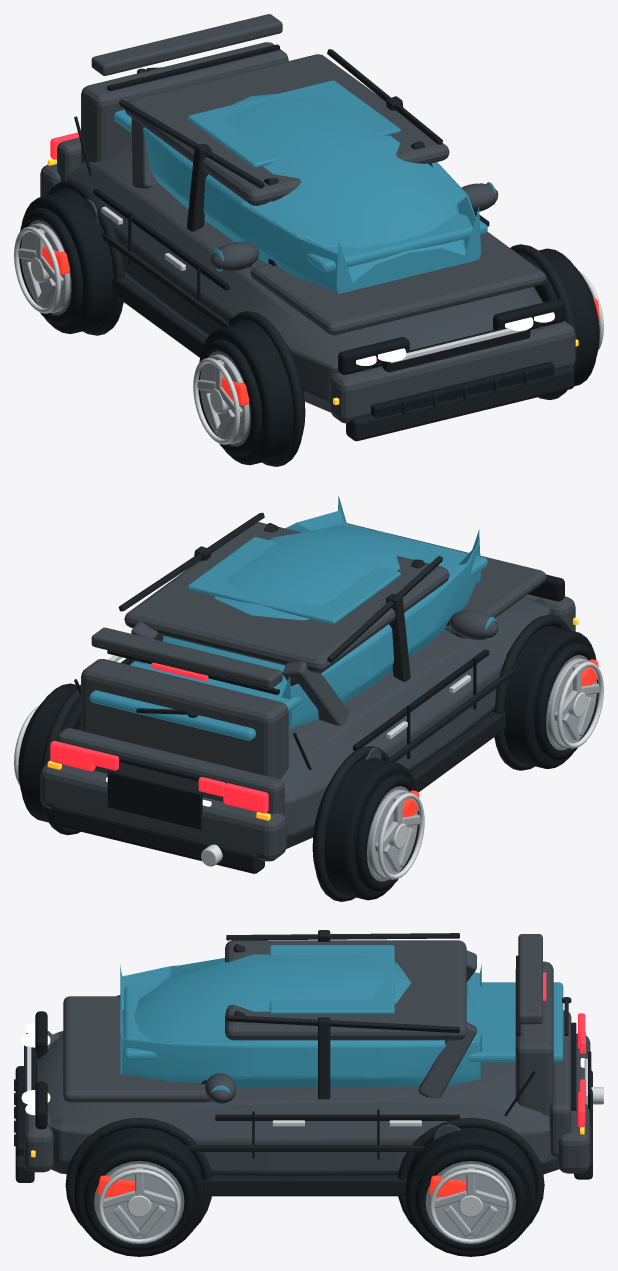
File: golf6_starter.glb
3 renders of one model, top to bottom at view 1: azimuth 30°, elevation 25°; view 2: azimuth 150°, elevation 25°; view 3: azimuth 270°, elevation 25°, orthographic. The views are drawn at different scales.
Parts seen in each view (by area): view 1: golf6 continuous dark greenhouse glass, golf6 compact rounded body shell, golf6 flat roof panel, golf6 front hood slab with softened crown, golf6 front bumper painted cover, golf6 rear hatch metal surround, left wheel tire, left wheel tire.001, golf6 black lower front valance, golf6 panoramic roof dark insert, golf6 small roof spoiler, right wheel tire (+26 smaller); view 2: golf6 continuous dark greenhouse glass, golf6 compact rounded body shell, golf6 flat roof panel, golf6 rear hatch metal surround, golf6 rear bumper painted cover, golf6 lower tailgate skin, left wheel tire.001, left wheel tire, golf6 panoramic roof dark insert, golf6 small roof spoiler, golf6 black rear lower valance, golf6 black rear plate pocket shadow (+26 smaller); view 3: golf6 continuous dark greenhouse glass, golf6 compact rounded body shell, golf6 flat roof panel, golf6 front hood slab with softened crown, right wheel tire, right wheel tire.001, right golf6 textured rocker skirt, golf6 upright rear hatch glass, golf6 panoramic roof dark insert, golf6 rear hatch metal surround, right tire sidewall bead, right tire sidewall bead.001 (+29 smaller).
Boxes of the visible parts, <box> form: golf6 continuous dark greenhouse glass: <box>143,93,480,293</box>; golf6 compact rounded body shell: <box>67,144,543,412</box>; golf6 flat roof panel: <box>124,54,449,205</box>; golf6 front hood slab with softened crown: <box>250,231,546,335</box>; golf6 front bumper painted cover: <box>330,320,575,423</box>; golf6 rear hatch metal surround: <box>81,42,288,163</box>; left wheel tire: <box>201,322,305,465</box>; left wheel tire.001: <box>21,190,123,333</box>; golf6 black lower front valance: <box>346,365,574,441</box>; golf6 panoramic roof dark insert: <box>187,80,400,167</box>; golf6 small roof spoiler: <box>91,14,282,75</box>; right wheel tire: <box>520,248,597,386</box>; golf6 continuous dark greenhouse glass: <box>136,496,480,729</box>; golf6 compact rounded body shell: <box>78,597,550,848</box>; golf6 flat roof panel: <box>124,522,449,673</box>; golf6 rear hatch metal surround: <box>81,659,288,779</box>; golf6 rear bumper painted cover: <box>40,764,286,861</box>; golf6 lower tailgate skin: <box>57,728,284,815</box>; left wheel tire.001: <box>312,758,416,900</box>; left wheel tire: <box>494,625,596,768</box>; golf6 panoramic roof dark insert: <box>187,537,400,624</box>; golf6 small roof spoiler: <box>91,627,282,689</box>; golf6 black rear lower valance: <box>52,804,264,873</box>; golf6 black rear plate pocket shadow: <box>107,771,202,829</box>; golf6 continuous dark greenhouse glass: <box>120,954,481,1088</box>; golf6 compact rounded body shell: <box>37,1031,559,1176</box>; golf6 flat roof panel: <box>225,940,466,1040</box>; golf6 front hood slab with softened crown: <box>63,996,211,1102</box>; right wheel tire: <box>74,1128,204,1256</box>; right wheel tire.001: <box>405,1128,535,1256</box>; right golf6 textured rocker skirt: <box>203,1175,406,1196</box>; golf6 upright rear hatch glass: <box>466,982,563,1062</box>; golf6 panoramic roof dark insert: <box>269,945,394,1014</box>; golf6 rear hatch metal surround: <box>515,961,553,1116</box>; right tire sidewall bead: <box>83,1149,194,1251</box>; right tire sidewall bead.001: <box>415,1149,526,1251</box>.
Size of the model in its own units: 2.89 by 1.76 by 4.34.
